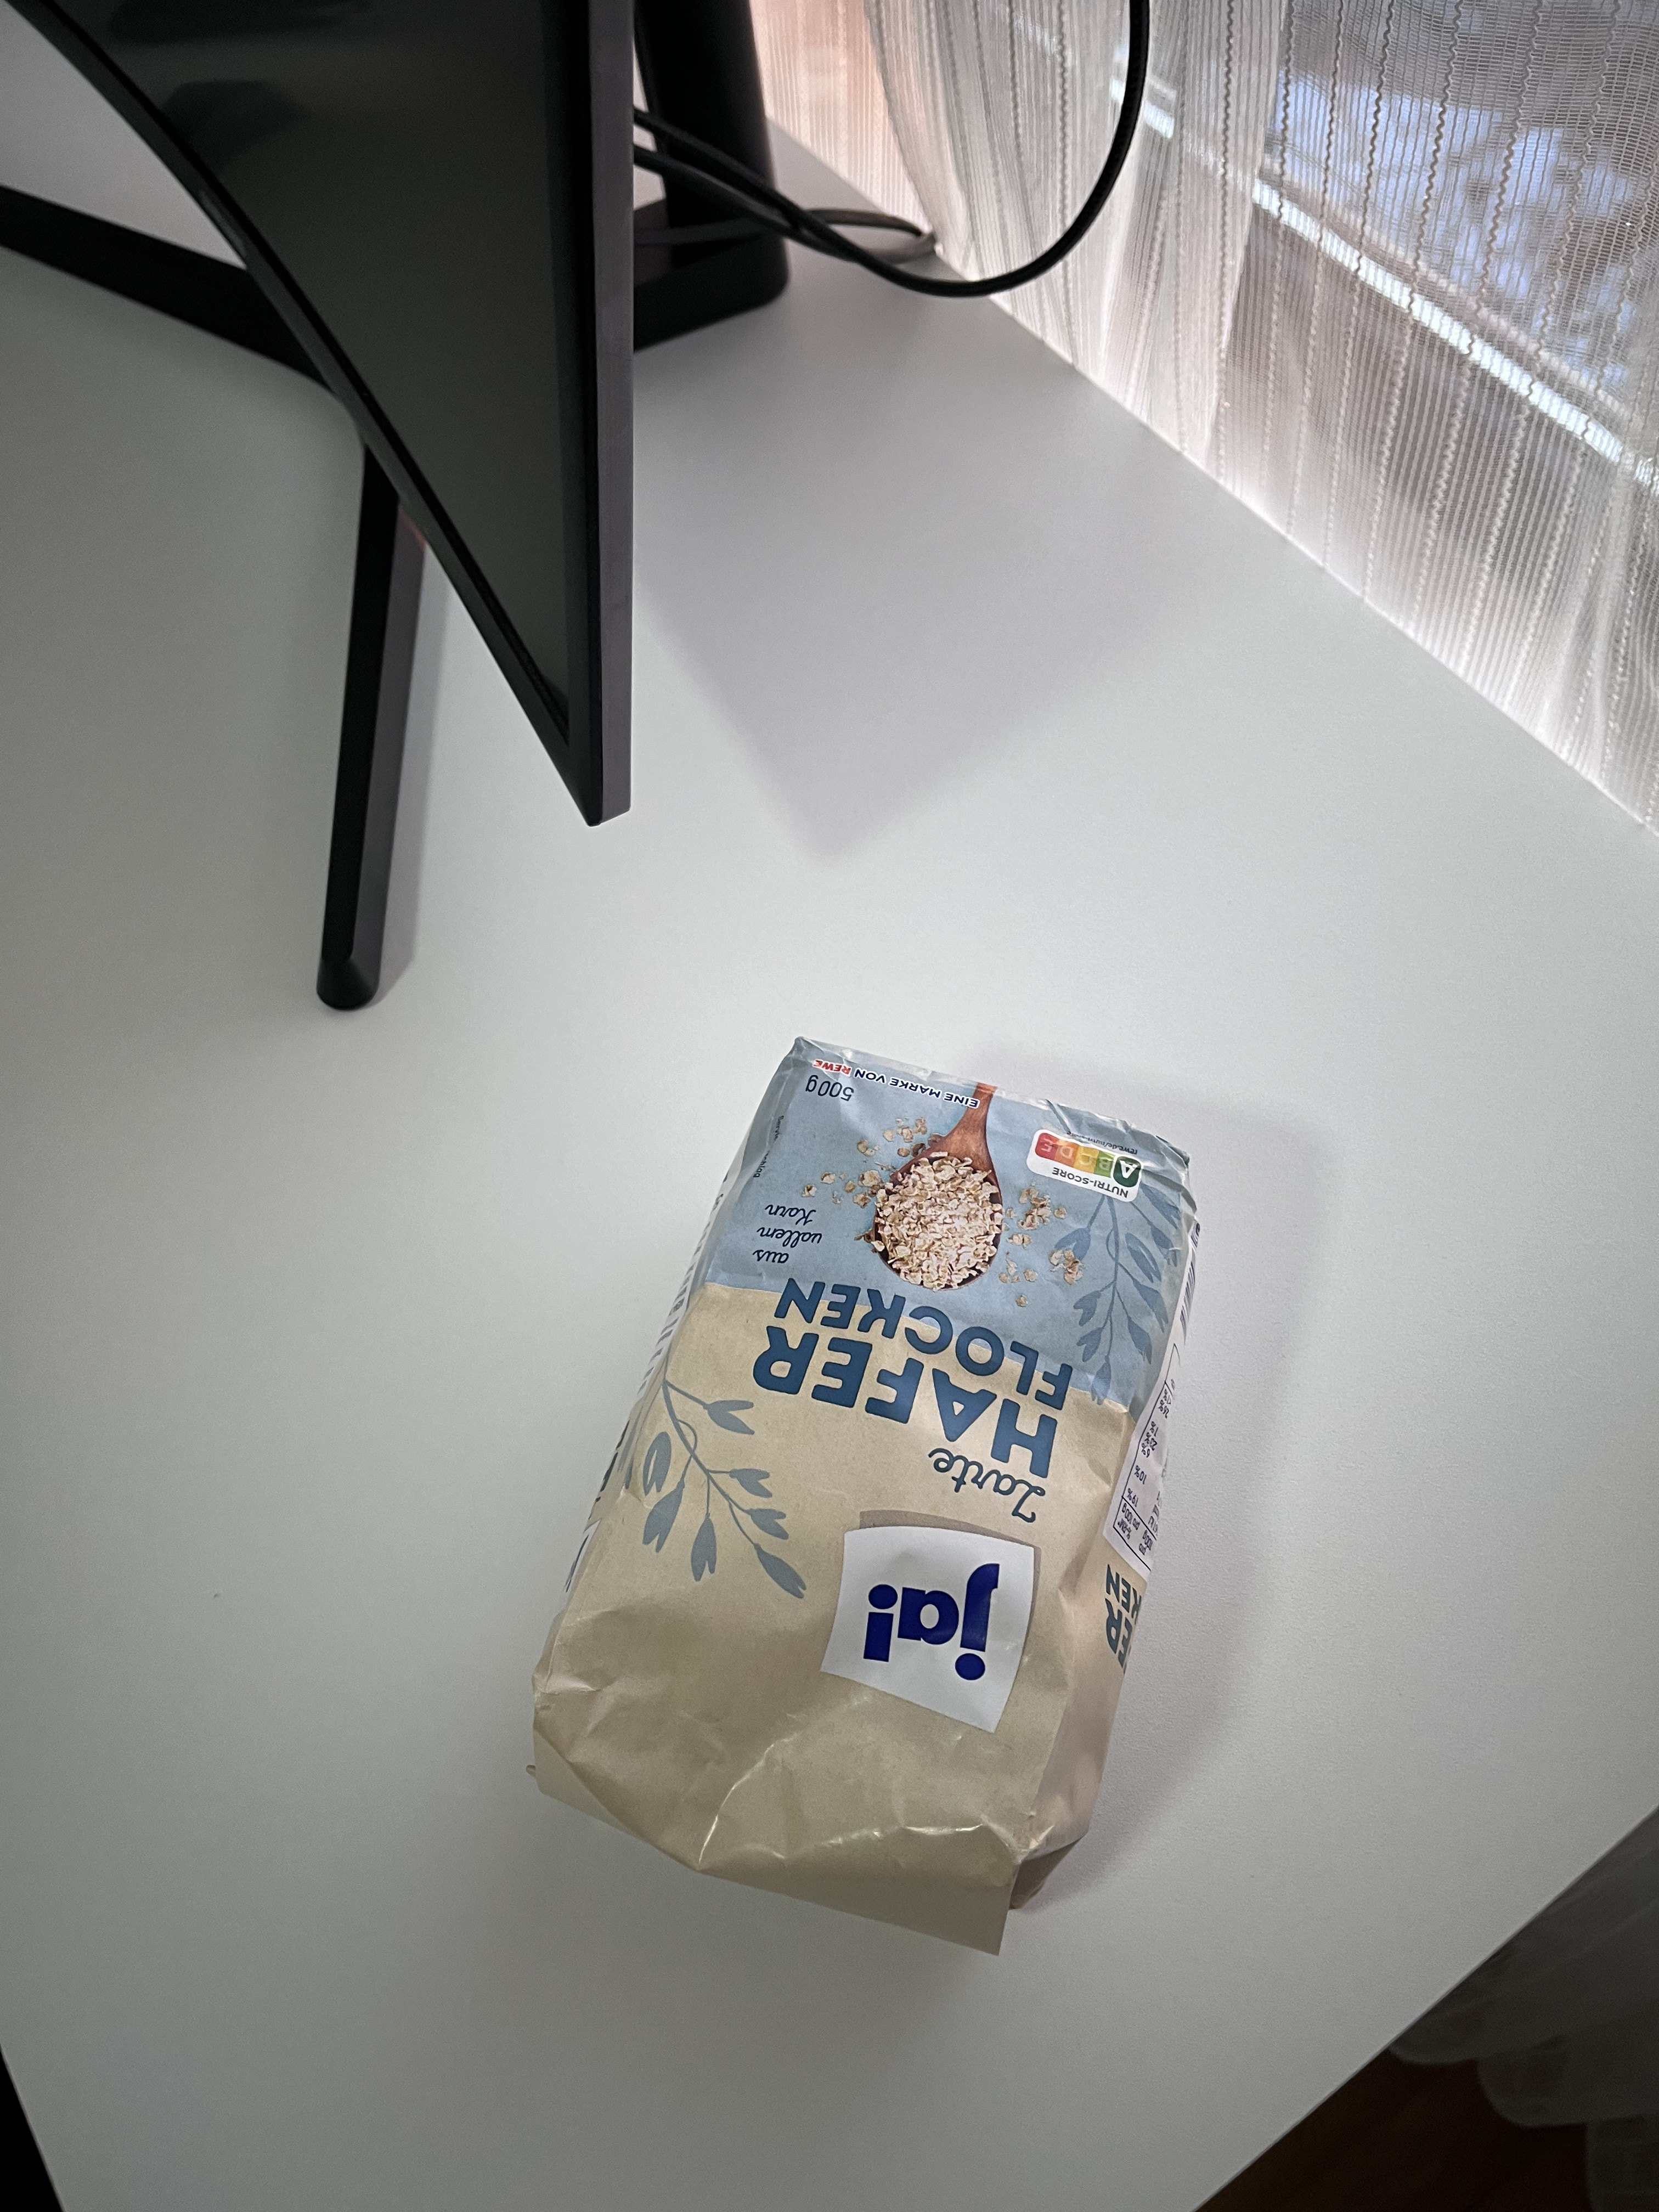haferflocken_ja: (526, 1028, 1202, 1958)
